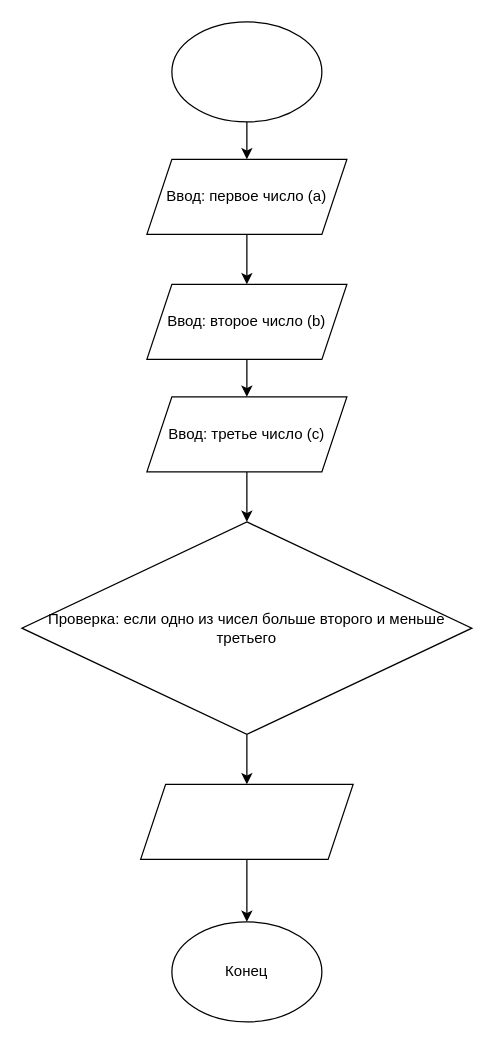
The diagram is 494 pixels wide and 1044 high, and some of its shapes have lost their labels. The centre of each missing label's shape, as x and y in pixels:
Вывод: среднее из чисел: the point at 246,821
Начало: the point at 246,71
